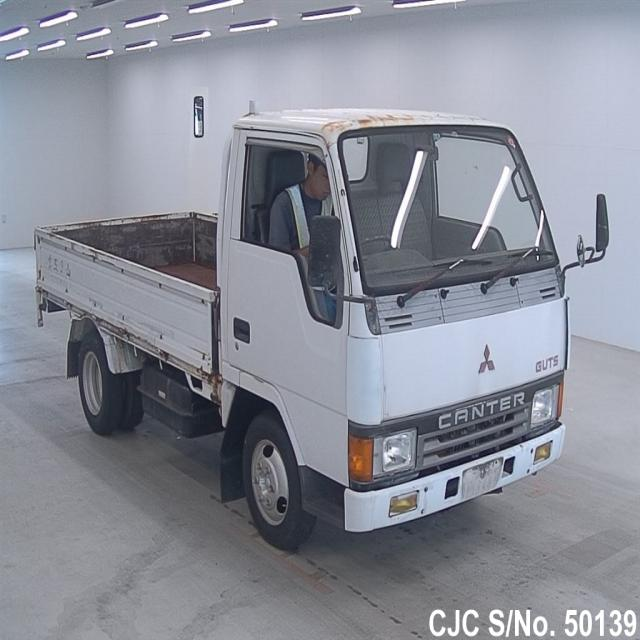truck: (35, 106, 612, 544)
